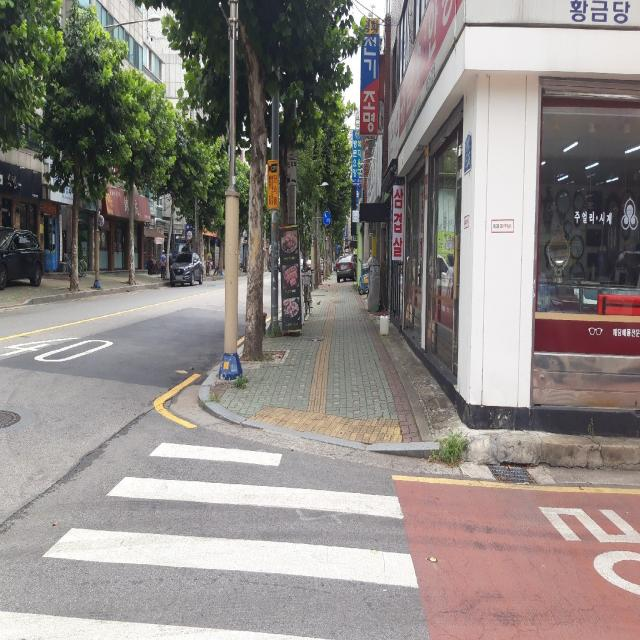횡단보도: (0, 442, 419, 640)
